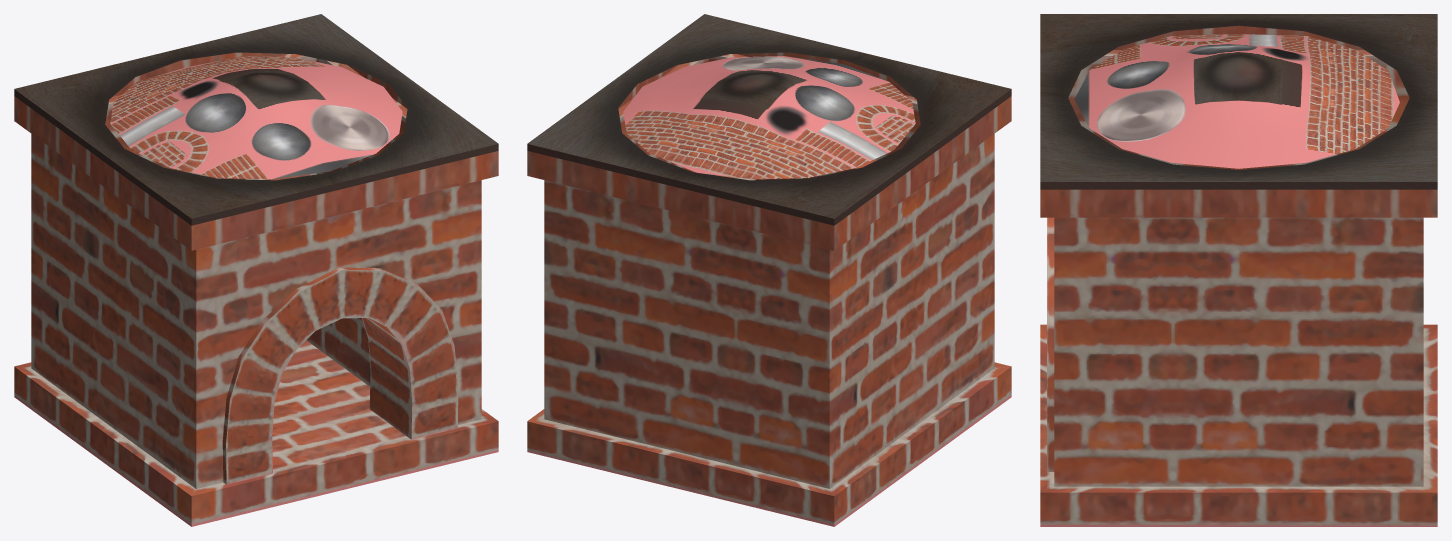
Rendered from blend_O.fbx.
3 renders of one model, left to right at view 1: azimuth 30°, elevation 25°; view 2: azimuth 150°, elevation 25°; view 3: azimuth 270°, elevation 25°, orthographic. The views are drawn at different scales.
Visible parts, largest first — view 1: Red_stove, Soup; view 2: Red_stove, Soup; view 3: Red_stove, Soup.
Boxes of the visible parts, x1=… form: Red_stove: x1=14, y1=14, x2=498, y2=526; Soup: x1=110, y1=56, x2=402, y2=179; Red_stove: x1=527, y1=14, x2=1011, y2=526; Soup: x1=623, y1=56, x2=915, y2=179; Red_stove: x1=1040, y1=14, x2=1437, y2=526; Soup: x1=1074, y1=34, x2=1399, y2=168.
Bounding box in the file's own units: 8.05 × 8.05 × 8.61.
